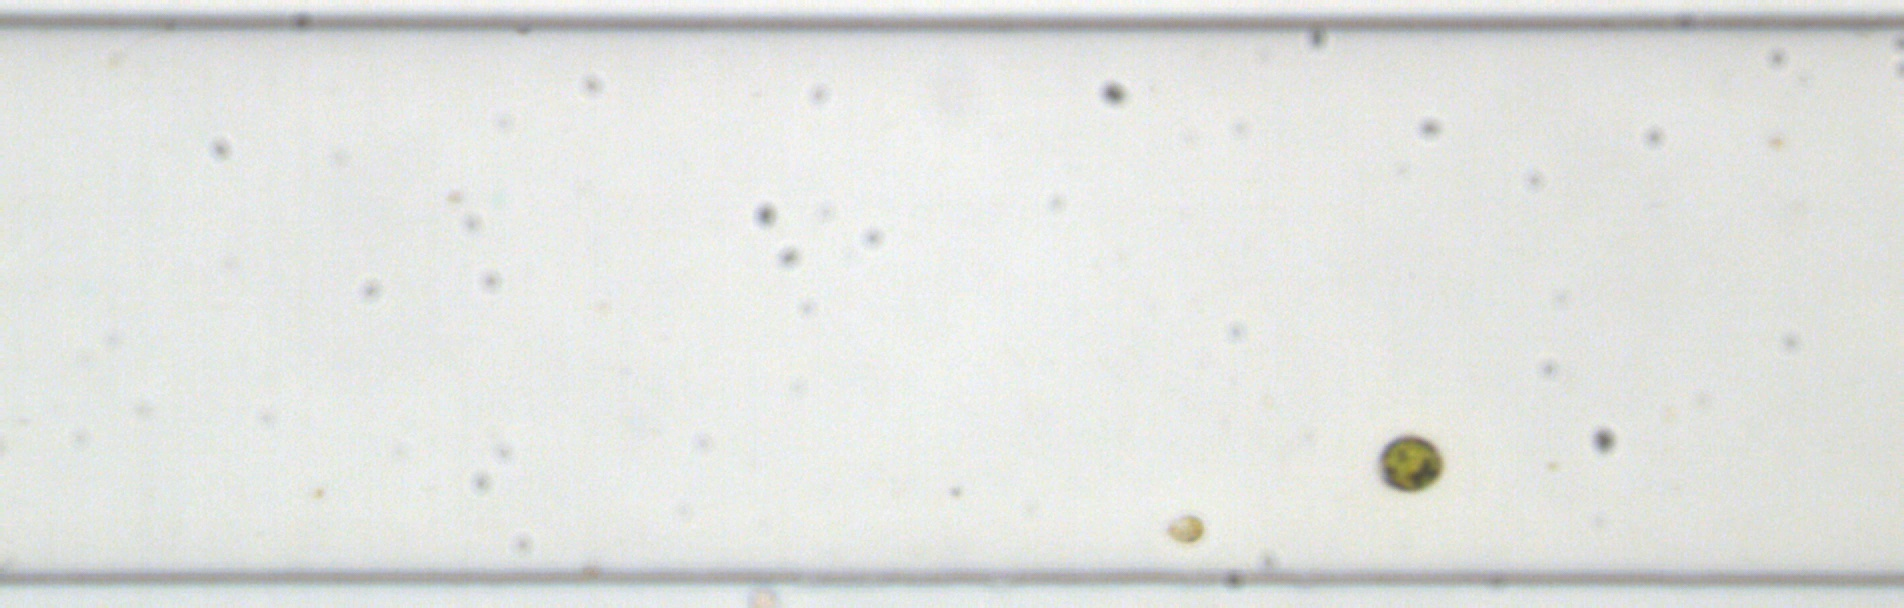Dunaliella salina: (1164, 513, 1209, 542)
Haematococcus: (1377, 432, 1443, 491)
